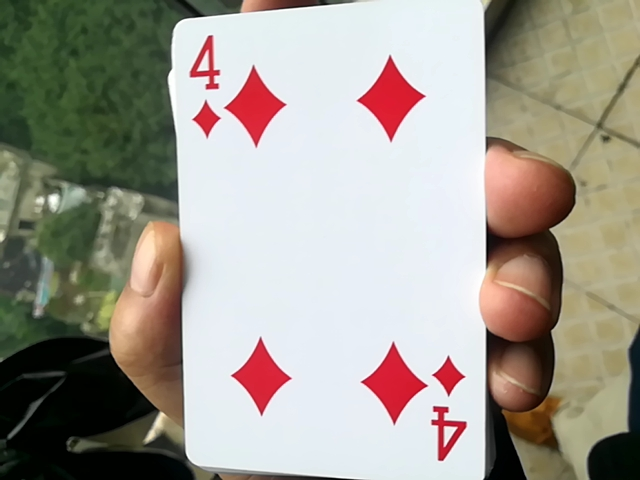fk 4: (150, 0, 490, 476)
